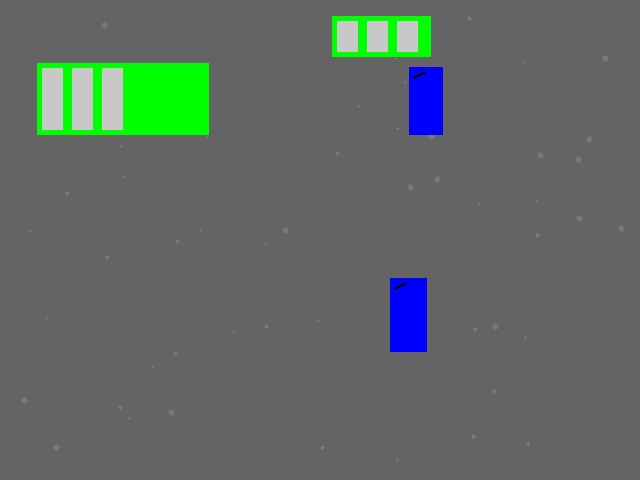bus: (37, 63, 208, 134), (332, 16, 430, 56)
motorcycle: (390, 278, 426, 351), (409, 67, 442, 134)
